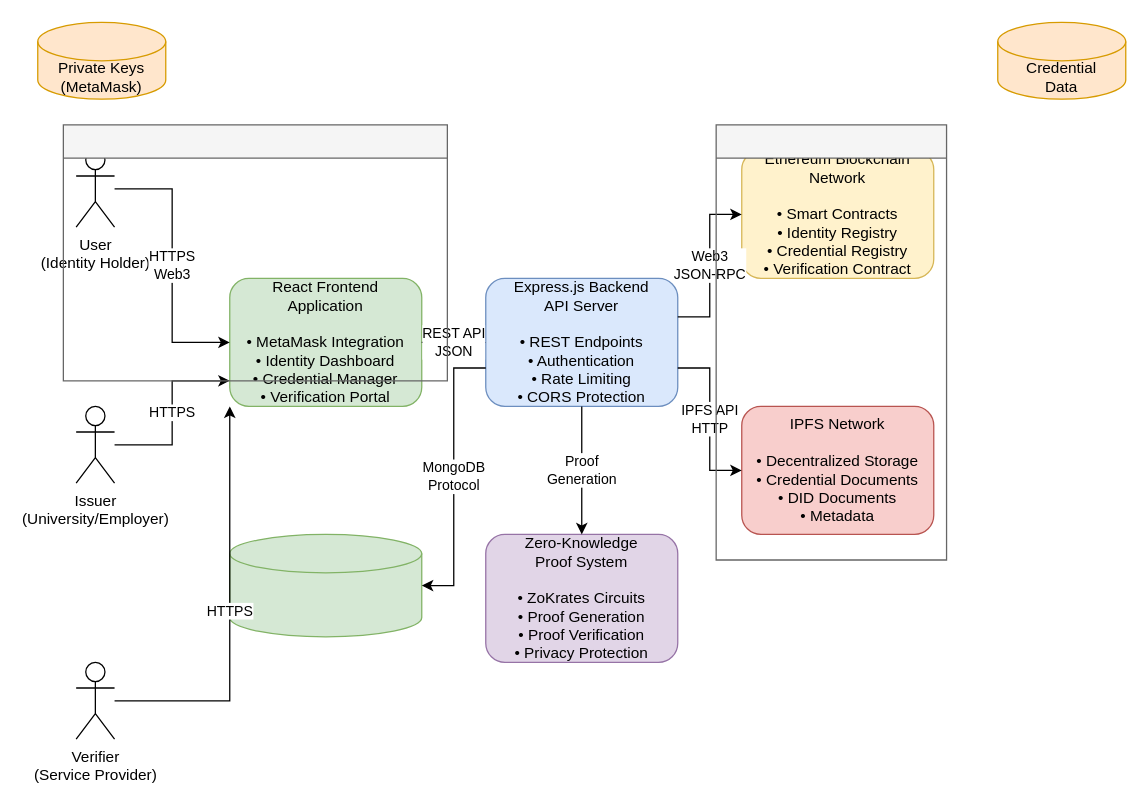
The diagram is 1148 pixels wide and 808 high, and some of its shapes have lost their labels. Here are the shapes that lost their labels. From the top down, the centre of each, then its label:
At point 254,252: "Internet Trust Boundary".
At point 831,342: "Blockchain Trust Boundary".
At point 325,585: "MongoDB Database • Off-chain Metadata • Session Management • Caching • Indexing".
